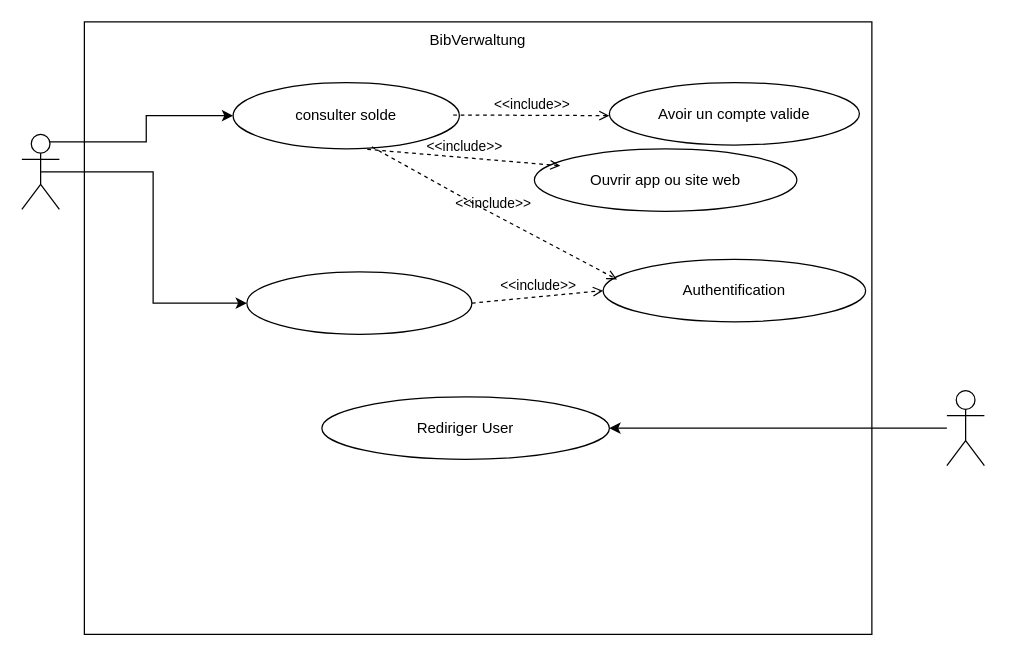
The diagram is 1024 pixels wide and 656 high, and some of its shapes have lost their labels. The box of each missing label's shape, as (x1, y1, x2, y2) in pixels:
Actor: (21, 133, 59, 209)
Bansystem: (946, 389, 984, 466)
Mehre KontenVerwalten: (246, 271, 472, 334)
